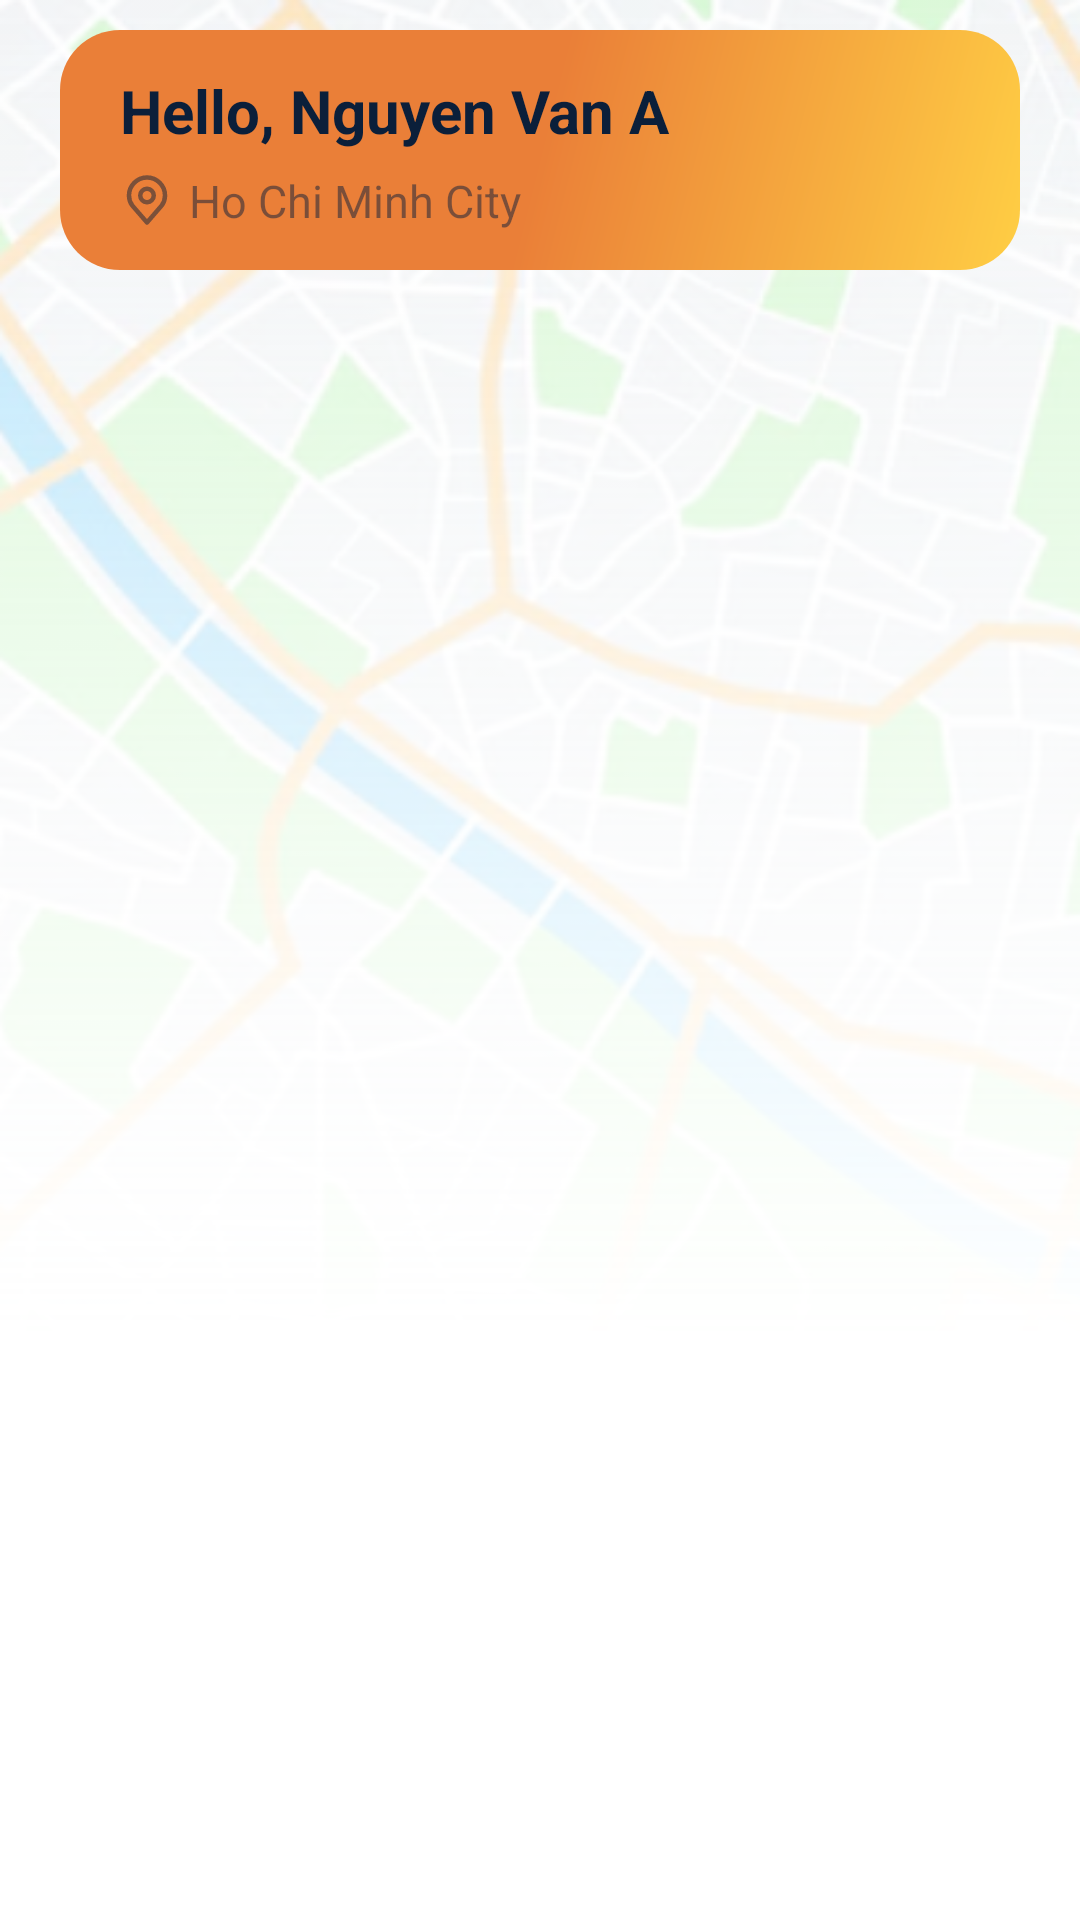

Screen size 1080 × 1920. Icon name, then its box in pixels as {"x1": x1, "y1": y1, "x2": x2, "y2": y2}:
location: {"x1": 126, "y1": 175, "x2": 168, "y2": 225}
